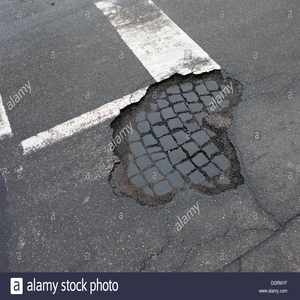pothole: (106, 66, 247, 211)
